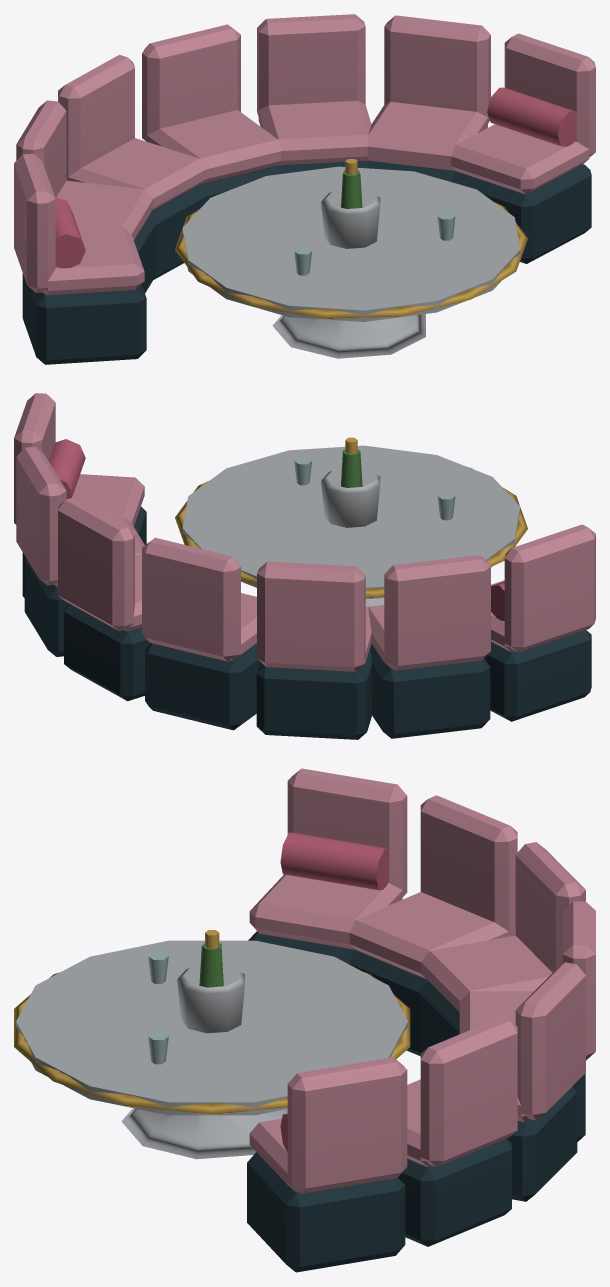
Rendered from club_banquette_booth.glb.
The picture shows the model from 3 angles, top to bottom: view 1: azimuth 30°, elevation 25°; view 2: azimuth 150°, elevation 25°; view 3: azimuth 270°, elevation 25°; orthographic projection. The views are drawn at different scales.
Visible parts, largest first — view 1: club_banquette_booth; view 2: club_banquette_booth; view 3: club_banquette_booth.
Boxes of the visible parts, bbox=[...] form: club_banquette_booth: bbox=[14, 14, 595, 364]; club_banquette_booth: bbox=[14, 393, 595, 739]; club_banquette_booth: bbox=[14, 768, 595, 1272].
Size of the model in its own units: 3.64 by 1.06 by 2.82.
